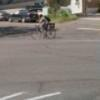bicycles: (32, 23, 56, 39)
